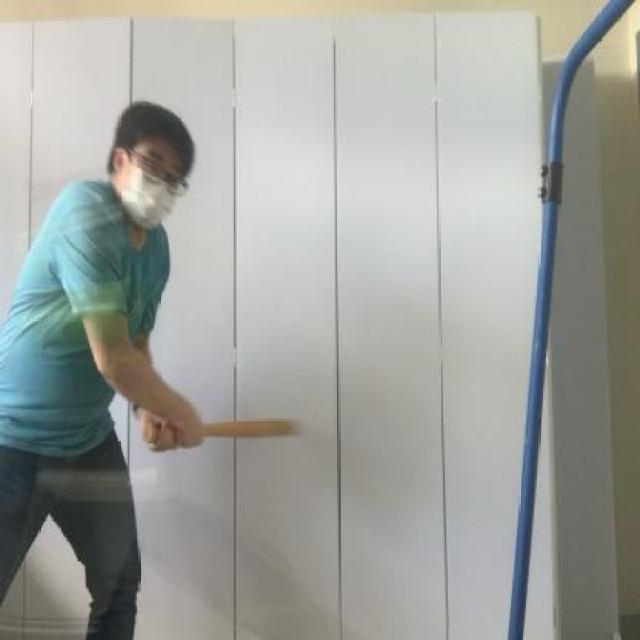baseball: (26, 258, 166, 359)
